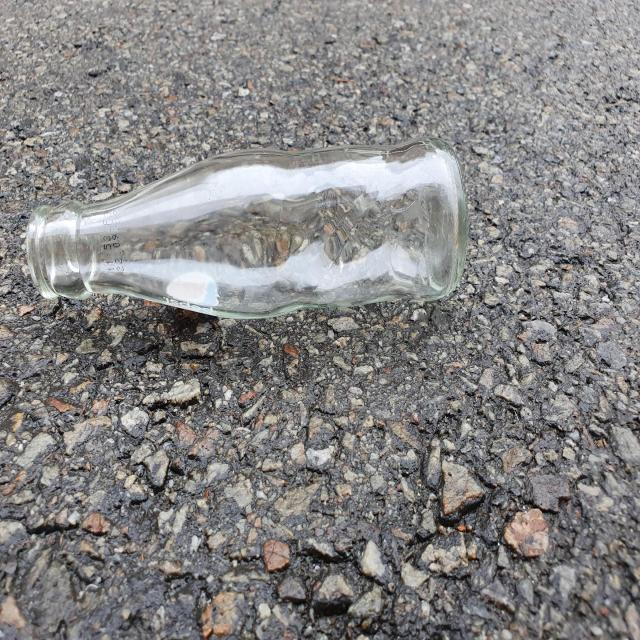glass: (25, 137, 469, 318)
